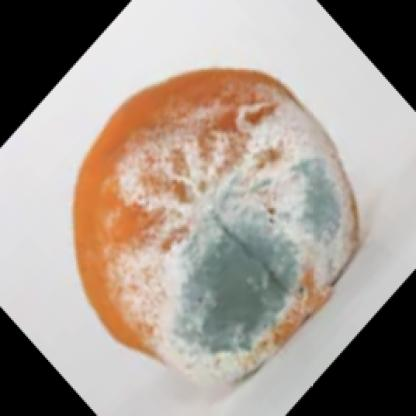rotten: (70, 68, 361, 384)
